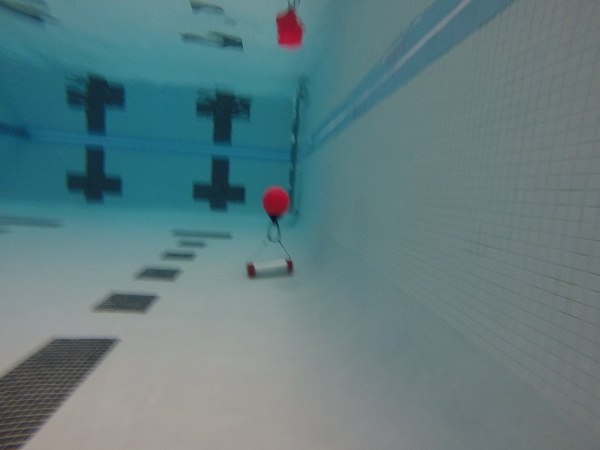buoy_red: (258, 186, 290, 227)
